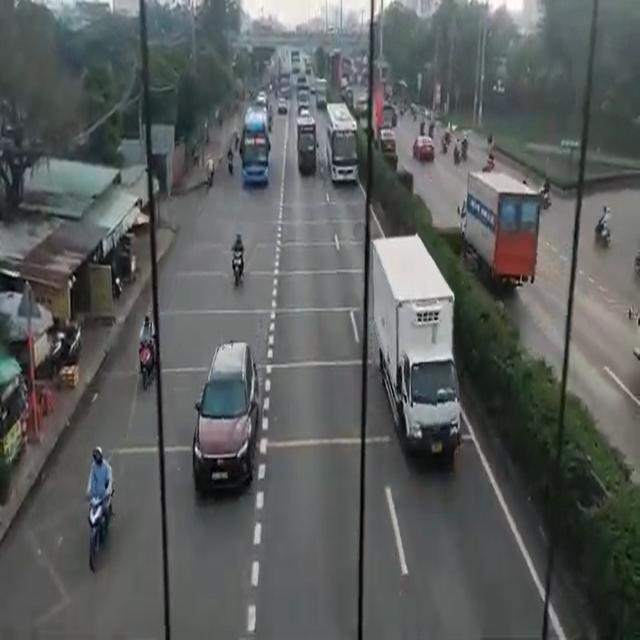bus: (324, 102, 358, 185), (243, 108, 269, 188)
car: (196, 338, 248, 488), (410, 129, 433, 162)
motor: (84, 447, 108, 571), (139, 309, 155, 385), (229, 230, 247, 288), (598, 200, 615, 256)
truck: (374, 238, 464, 460), (465, 169, 541, 294), (297, 106, 317, 192)
